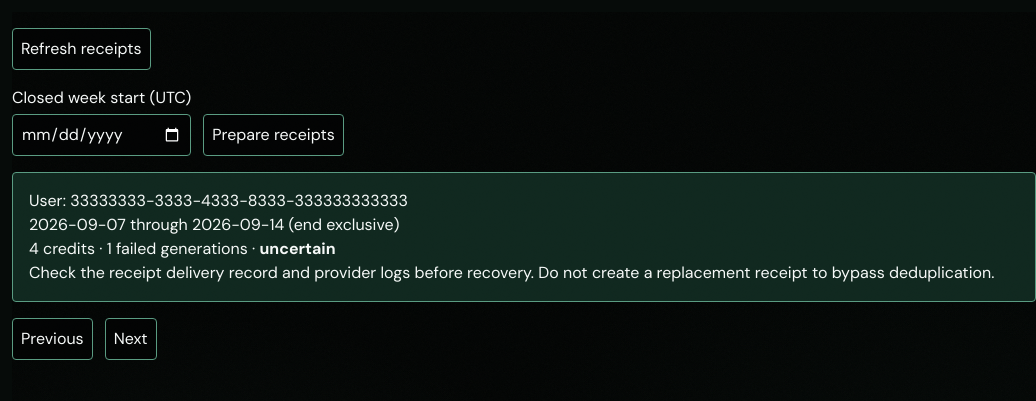
Scenario: shows uncertain delivery separately and prepares a closed UTC week without sending
The width and height of the screenshot is (1036, 401).
Expected: the text "uncertain" is shown, [259,238,336,259]
Type "2026-09-07" into the date field labelled "Closed week start (UTC)" at (102, 135), box [12,114,191,156]
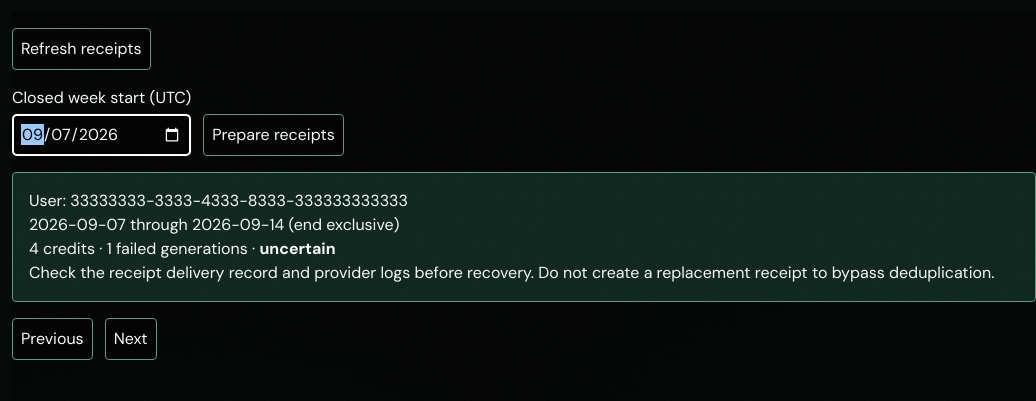
Click the button "Prepare receipts" at (274, 135), box [203,114,344,156]
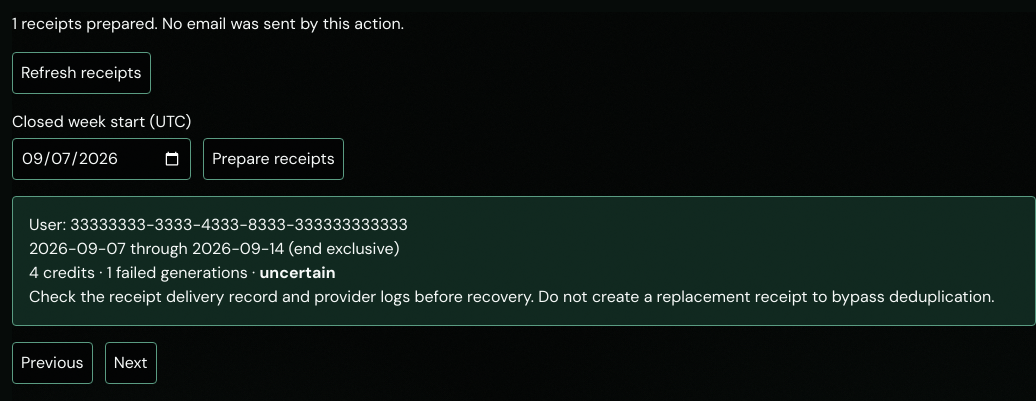
Now the text "1 receipts prepared. No email was sent by this action." is shown, box [12,13,404,34]
